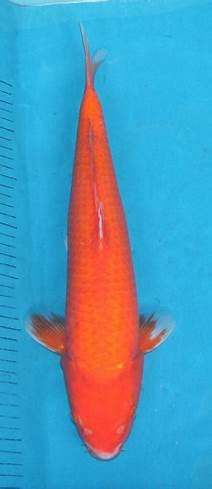red: (24, 21, 174, 460)
